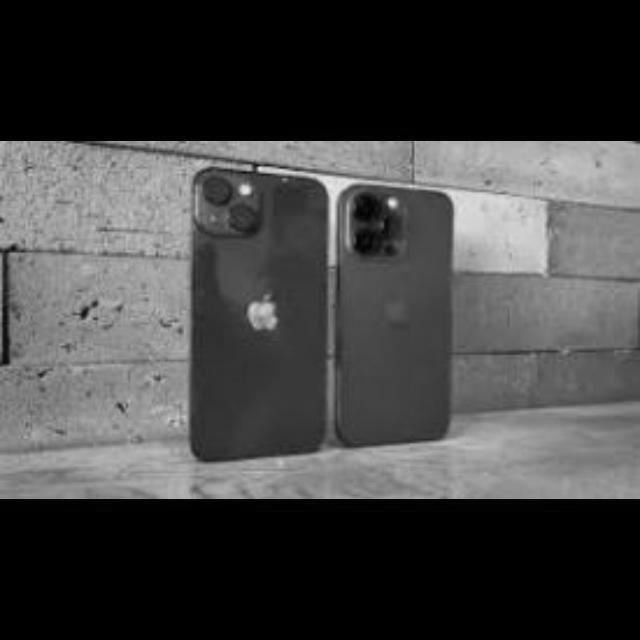fake: (182, 163, 343, 454), (328, 174, 456, 444)
